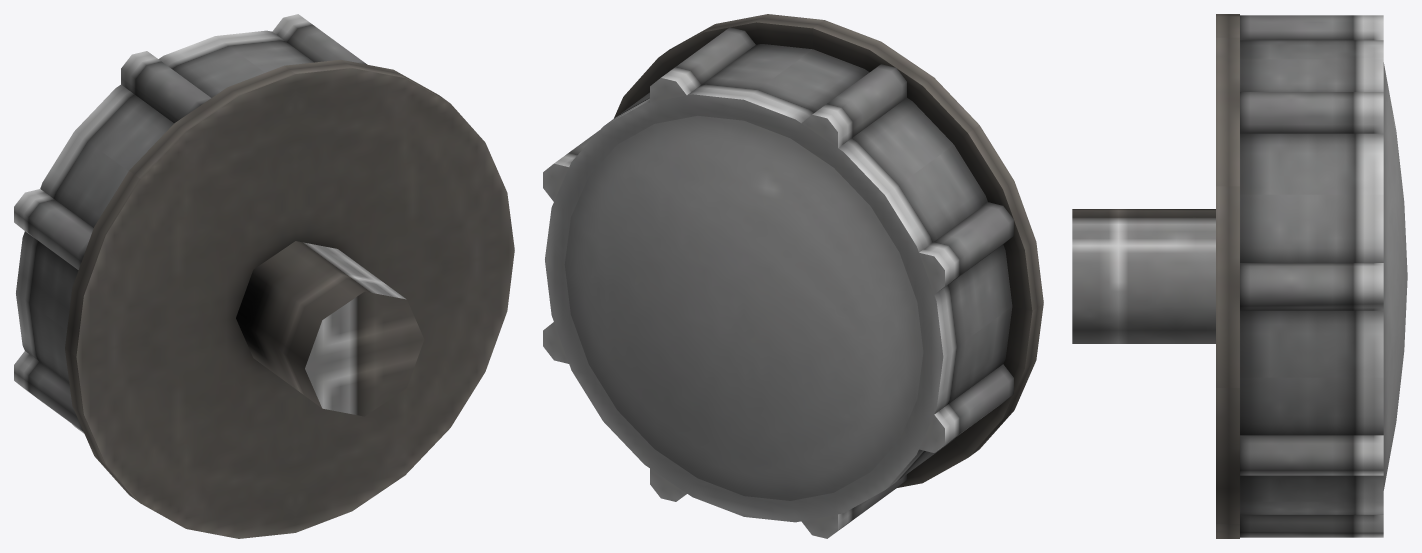
Rendered from grus_reflector.obj.
The picture shows the model from 3 angles, left to right: view 1: azimuth 30°, elevation 25°; view 2: azimuth 150°, elevation 25°; view 3: azimuth 270°, elevation 25°; orthographic projection. The views are drawn at different scales.
Visible parts, largest first — view 1: 2; view 2: 2; view 3: 2.
Part boxes in pixels (x1,y1,x2,y2): 2: [14, 14, 514, 538]; 2: [543, 14, 1043, 538]; 2: [1072, 14, 1407, 538].
Bounding box in the file's own units: 0.275 × 0.275 × 0.175.
Materials: 1 (1 with a texture image).
